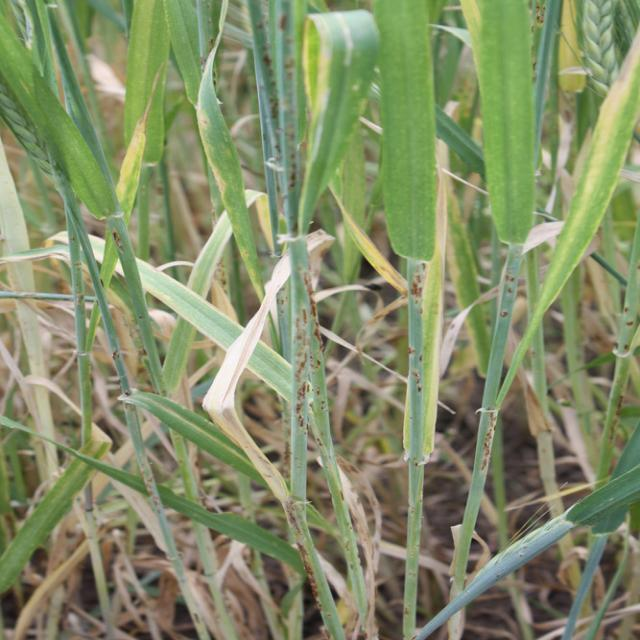Stem Rust: (249, 17, 358, 553)
